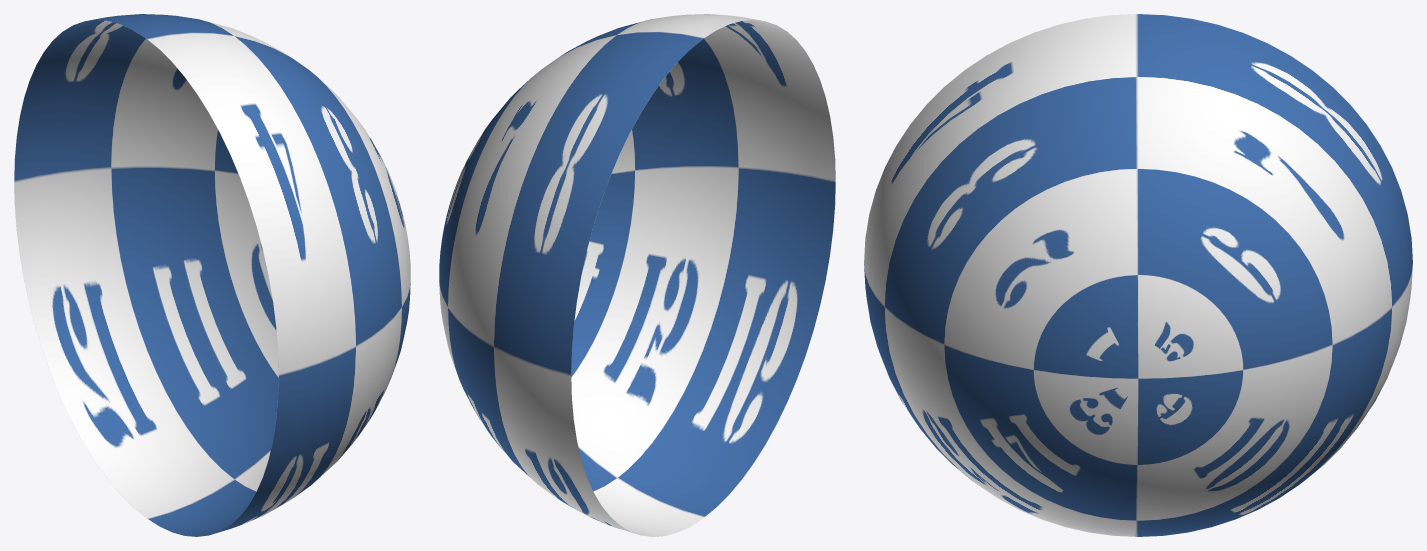
File: HSphere.fbx
3 renders of one model, left to right at view 1: azimuth 30°, elevation 25°; view 2: azimuth 150°, elevation 25°; view 3: azimuth 270°, elevation 25°, orthographic. The views are drawn at different scales.
Parts seen in each view (by area): view 1: SM_e_Use_HSphere_001; view 2: SM_e_Use_HSphere_001; view 3: SM_e_Use_HSphere_001.
Boxes of the visible parts, left/top/right/bottom form: SM_e_Use_HSphere_001: left=14, top=14, right=410, bottom=536; SM_e_Use_HSphere_001: left=439, top=14, right=835, bottom=536; SM_e_Use_HSphere_001: left=864, top=14, right=1412, bottom=536.
Bounding box in the file's own units: 37.67 × 75.33 × 75.33.
